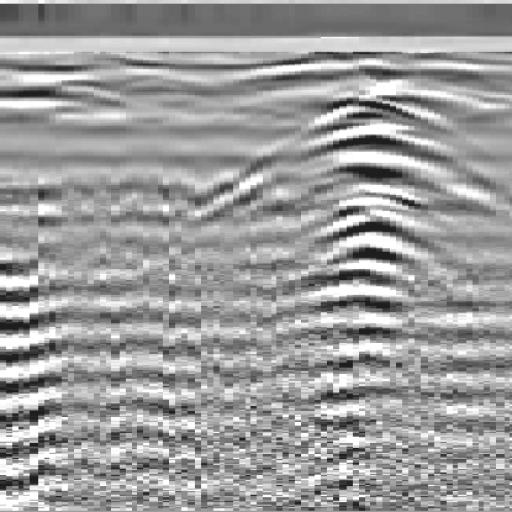metalic: (180, 71, 512, 359)
